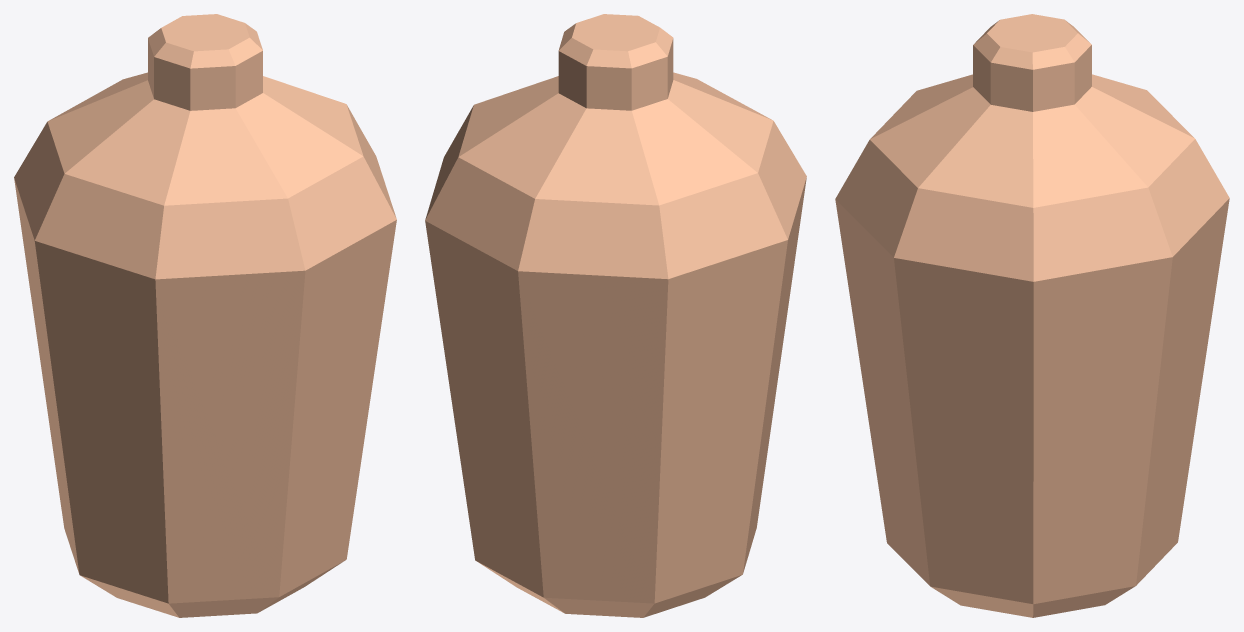
Rendered from Whisky1.fbx.
The picture shows the model from 3 angles, left to right: view 1: azimuth 30°, elevation 25°; view 2: azimuth 150°, elevation 25°; view 3: azimuth 270°, elevation 25°; orthographic projection.
Parts seen in each view (by area): view 1: Whisky1; view 2: Whisky1; view 3: Whisky1.
Boxes of the visible parts, bbox=[...] form: Whisky1: bbox=[14, 14, 396, 617]; Whisky1: bbox=[425, 14, 806, 617]; Whisky1: bbox=[835, 14, 1229, 617].
Bounding box in the file's own units: 0.1117 × 0.1692 × 0.1117.
Materials: 1 (1 with a texture image).
